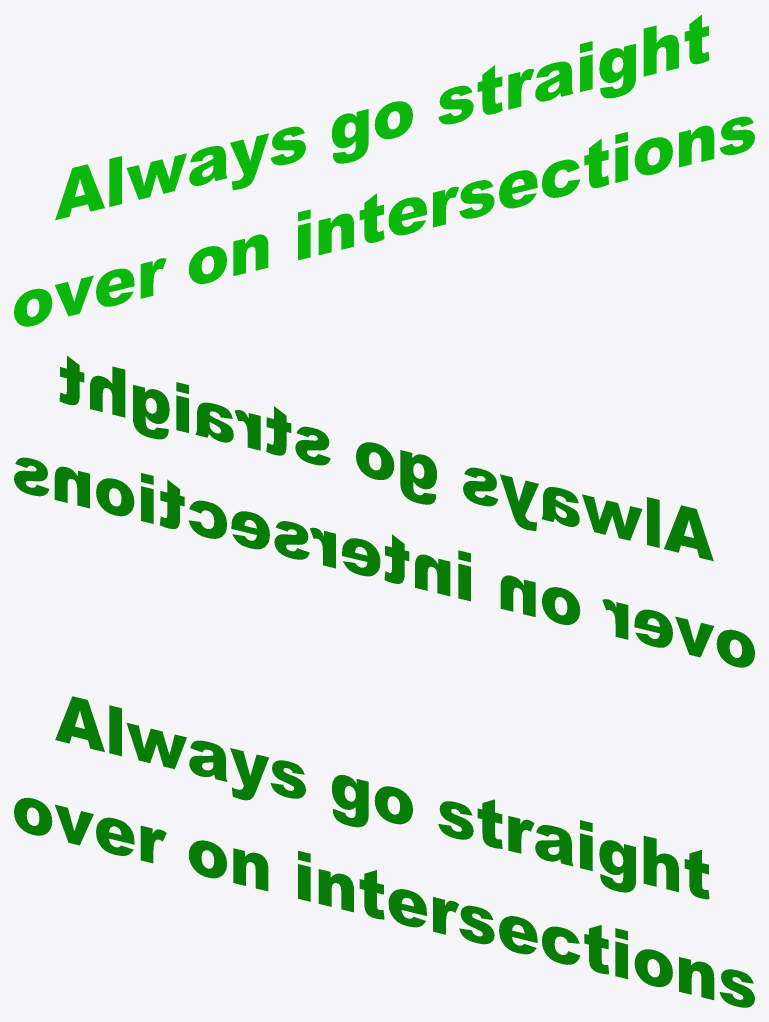
File: tutorial_11.dae
3 views of the same model, one above another, from view 1: azimuth 30°, elevation 25°; view 2: azimuth 150°, elevation 25°; view 3: azimuth 330°, elevation 25° (orthographic).
Visible parts, largest first — view 1: Always_go_straig (×32); view 2: Always_go_straig (×32); view 3: Always_go_straig (×32).
Boxes of the visible parts, x1,y1,x2,y2 form: Always_go_straig (×32): [14, 14, 754, 326]; Always_go_straig (×32): [14, 355, 754, 667]; Always_go_straig (×32): [14, 696, 754, 1007].
Size of the model in its own units: 3174 by 1.69e-14 by 607.
